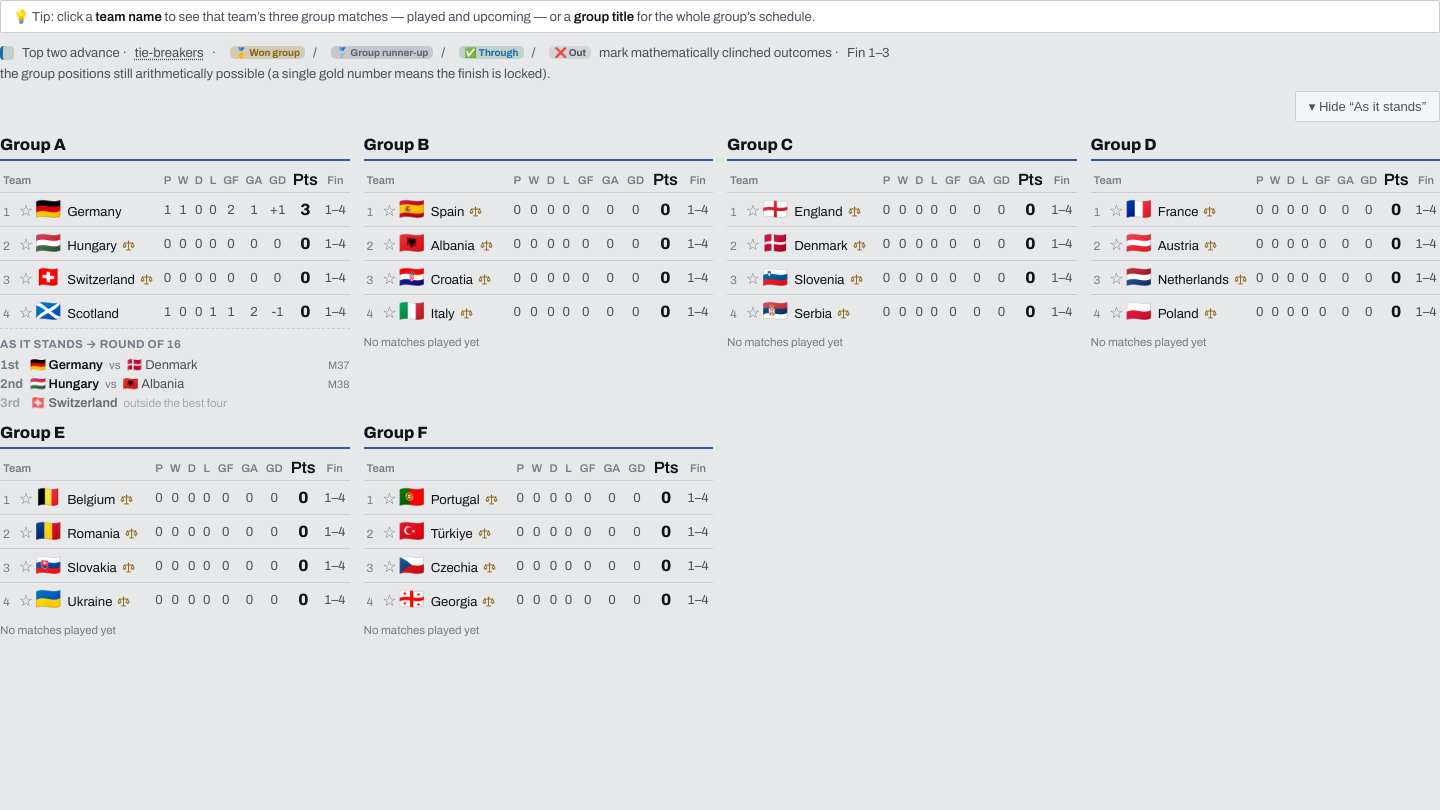
Test: Group games pop-up › shows the whole group’s six matches when the group title is clicked
Click the button "Group A" at (33, 145), box [0, 136, 66, 154]
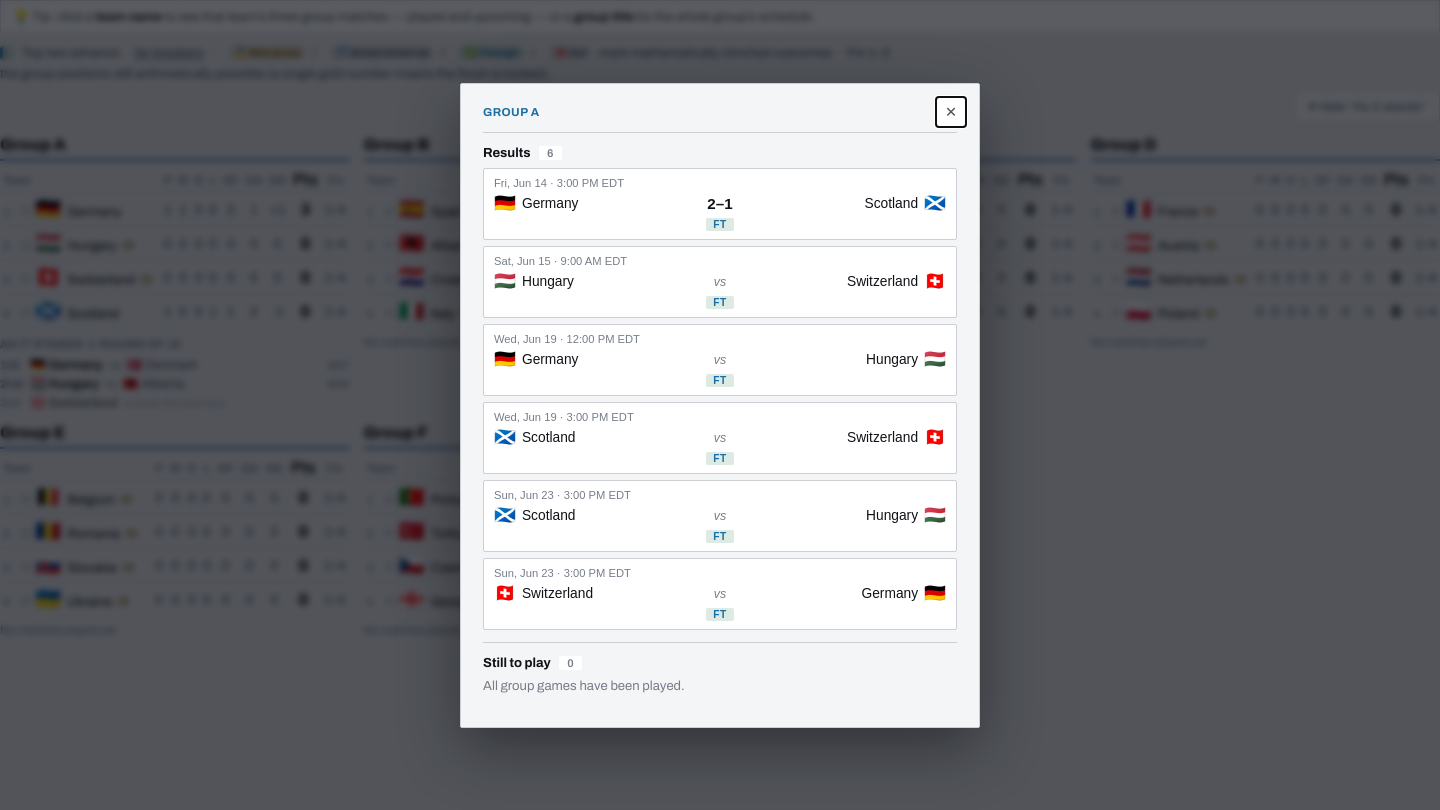
expect the number of buttons with class "gg-fixture" is 6: met, box [483, 168, 957, 240]; [483, 246, 957, 318]; [483, 324, 957, 396]; [483, 402, 957, 474]; [483, 480, 957, 552]; [483, 558, 957, 630]
